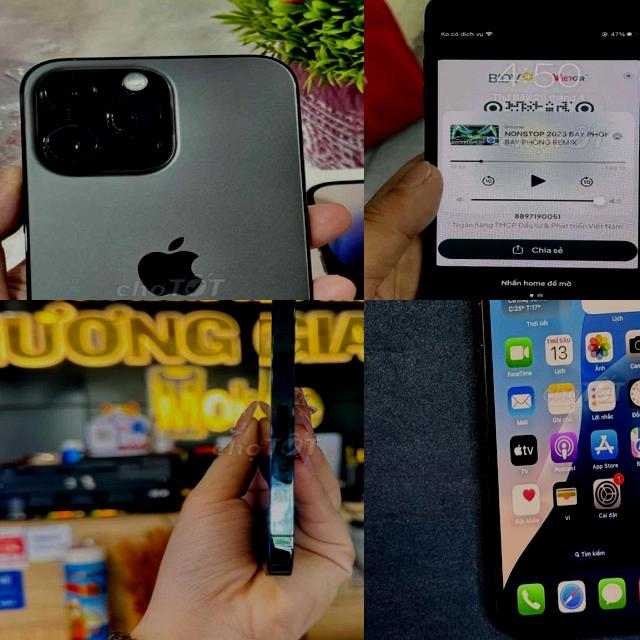gen_12_13: (475, 300, 640, 640), (257, 300, 309, 580)
gen_14: (6, 44, 340, 300)
gen_7_8: (400, 0, 640, 300)
